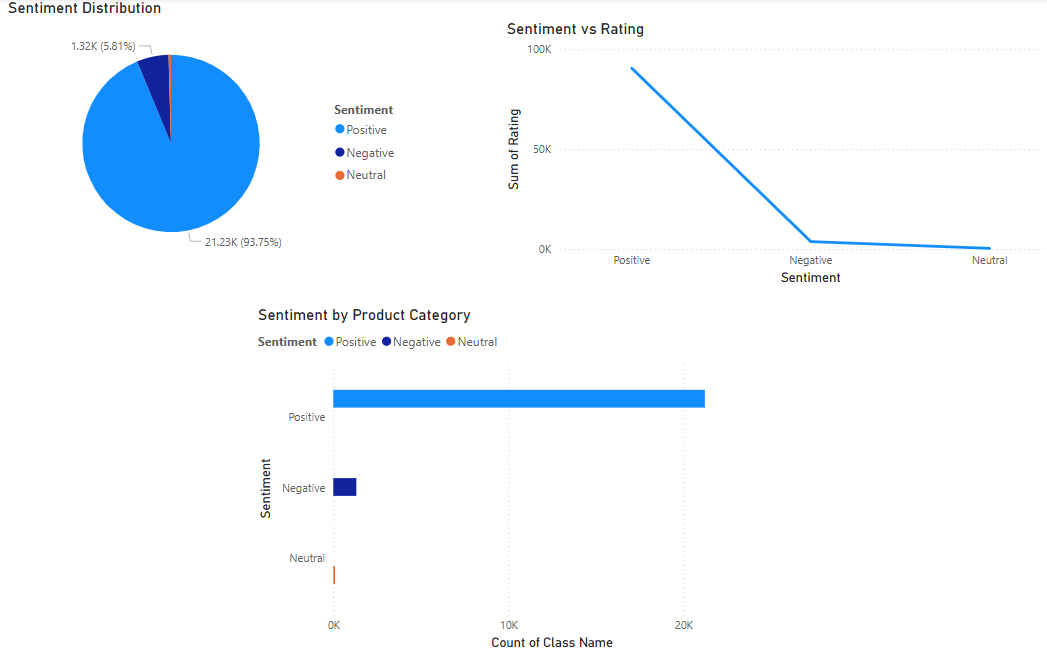

What the dashboard file says about the page in this screenshot:
{"tool":"powerbi","page":{"name":"Page 1","canvas":[1280,720],"ordinal":0},"visuals":[{"type":"pieChart","title":"Sentiment Distribution","fields":{"Category":["Sentiment_Analysis_Results.Sentiment"],"Y":["CountNonNull(Sentiment_Analysis_Results.Sentiment)"]},"box":[74.1,0,450.1,300.5],"z":0},{"type":"clusteredBarChart","title":"Sentiment by Product Category","fields":{"Y":["CountNonNull(Sentiment_Analysis_Results.Class Name)"],"Series":["Sentiment_Analysis_Results.Sentiment"],"Category":["Sentiment_Analysis_Results.Sentiment"]},"box":[348.5,337.6,583.2,382.8],"z":1000},{"type":"lineChart","title":"Sentiment vs Rating","fields":{"Category":["Sentiment_Analysis_Results.Sentiment"],"Y":["Sum(Sentiment_Analysis_Results.Rating)"]},"box":[621.6,23.3,618.9,296.4],"z":2000}]}

Visuals, with their boxes on the page's 1280x720 design canvas (x1, y1, x2, y2). These are canvas units, not pixel positions in the 1047x649 screenshot, which may show the page scaled, cropped or inside an application window:
"Sentiment Distribution" pieChart: (74, 0, 524, 300)
"Sentiment by Product Category" clusteredBarChart: (348, 338, 932, 720)
"Sentiment vs Rating" lineChart: (622, 23, 1240, 320)
